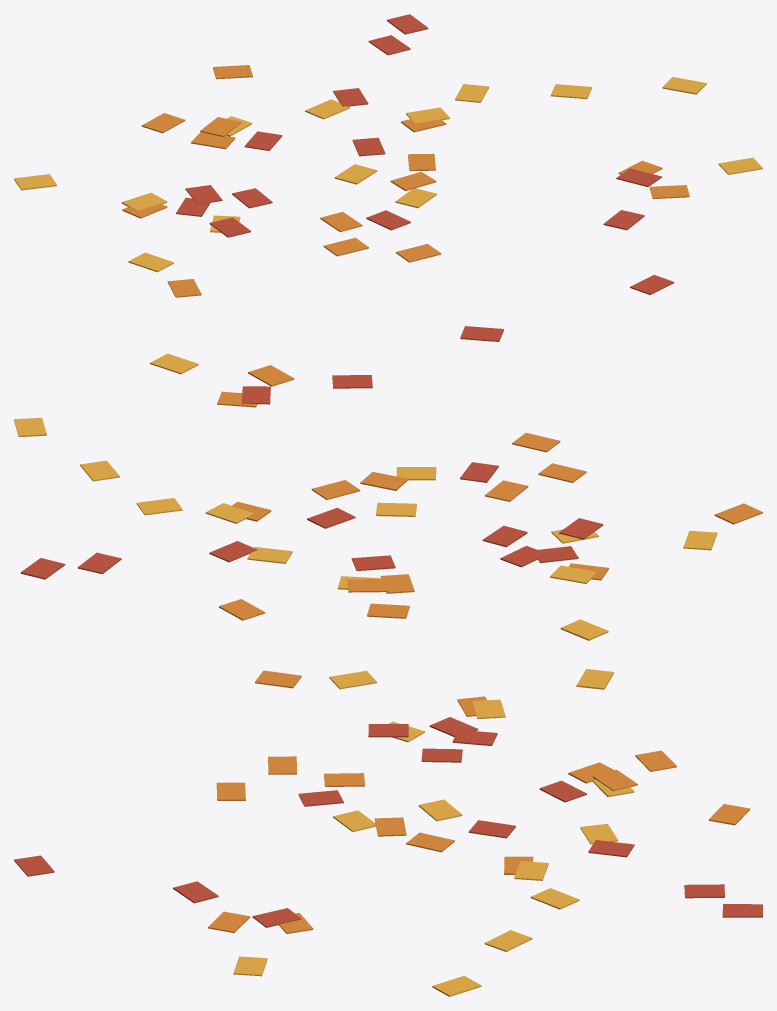
File: leaf-patch.glb
The picture shows the model from 3 angles, top to bottom: view 1: azimuth 30°, elevation 25°; view 2: azimuth 150°, elevation 25°; view 3: azimuth 270°, elevation 25°; orthographic projection. The views are drawn at different scales.
Visible parts, largest first — view 1: leaves; view 2: leaves; view 3: leaves.
Boxes of the visible parts, box(x1,y1,x2,y2) form: leaves: box(14, 14, 762, 297); leaves: box(14, 326, 762, 640); leaves: box(14, 669, 762, 996).
Size of the model in its own units: 5.41 by 0.0283 by 5.23.
